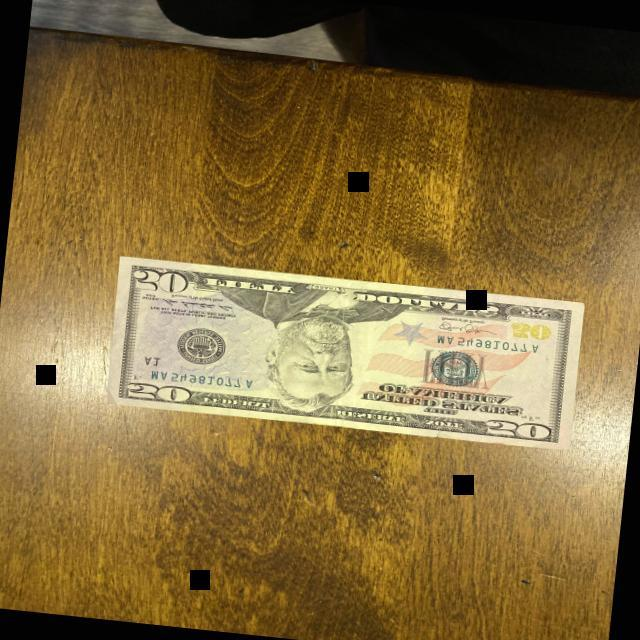fifty: (104, 253, 586, 452)
